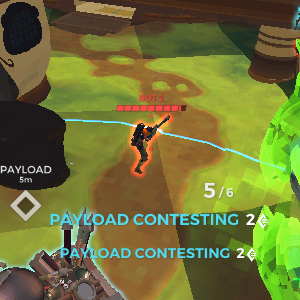model: (127, 119, 158, 180)
